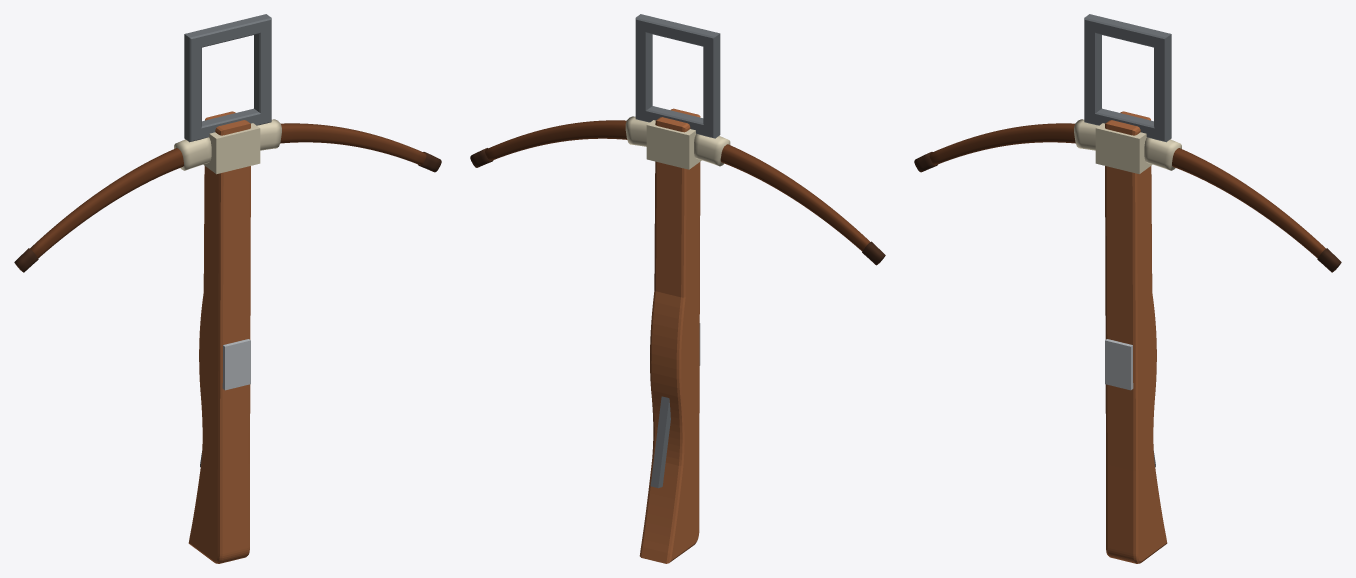
File: Crossbow.glb
3 renders of one model, left to right at view 1: azimuth 30°, elevation 25°; view 2: azimuth 150°, elevation 25°; view 3: azimuth 330°, elevation 25°, orthographic. The views are drawn at different scales.
Visible parts, largest first — view 1: stock, stirrup, prod, lashing_stock, nutPlate, lashing_prod_L, lashing_prod_R; view 2: stock, stirrup, prod, lashing_stock, triggerLever, lashing_prod_L, lashing_prod_R; view 3: stock, stirrup, prod, lashing_stock, nutPlate, lashing_prod_R, lashing_prod_L.
Part boxes in pixels (x1=…): stock: x1=188, y1=111, x2=250, y2=563; stirrup: x1=184, y1=14, x2=271, y2=142; prod: x1=30, y1=123, x2=426, y2=258; lashing_stock: x1=203, y1=123, x2=260, y2=174; nutPlate: x1=222, y1=339, x2=250, y2=390; lashing_prod_L: x1=174, y1=137, x2=211, y2=170; lashing_prod_R: x1=257, y1=119, x2=281, y2=150; stock: x1=639, y1=108, x2=700, y2=563; stirrup: x1=635, y1=14, x2=720, y2=138; prod: x1=485, y1=120, x2=869, y2=251; lashing_stock: x1=646, y1=120, x2=701, y2=169; triggerLever: x1=650, y1=396, x2=670, y2=488; lashing_prod_L: x1=694, y1=134, x2=730, y2=166; lashing_prod_R: x1=625, y1=116, x2=649, y2=146; stock: x1=1105, y1=111, x2=1167, y2=563; stirrup: x1=1084, y1=14, x2=1171, y2=142; prod: x1=929, y1=123, x2=1325, y2=258; lashing_stock: x1=1095, y1=123, x2=1152, y2=174; nutPlate: x1=1105, y1=339, x2=1133, y2=390; lashing_prod_R: x1=1144, y1=137, x2=1181, y2=170; lashing_prod_L: x1=1074, y1=119, x2=1098, y2=150.
Bounding box in the file's own units: 4.27 × 5.12 × 0.6143.
